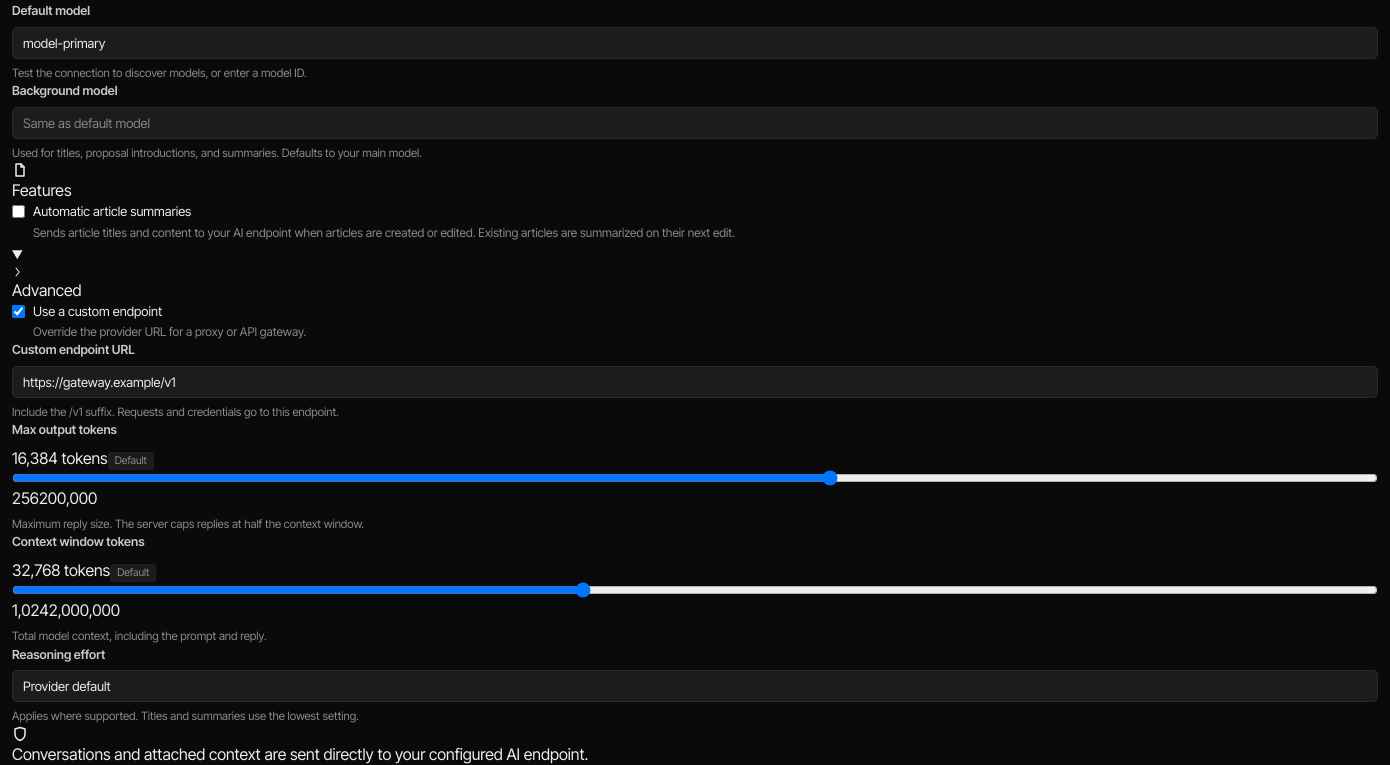
Test case: AI settings saved key on a new endpoint › does not block a trailing-slash change to the same endpoint
(page scrolled)
Replace the text in the field labelled "Custom endpoint URL" with "https://gateway.example/v1/". click: point(695, 382)
box: [12,366,1378,398]
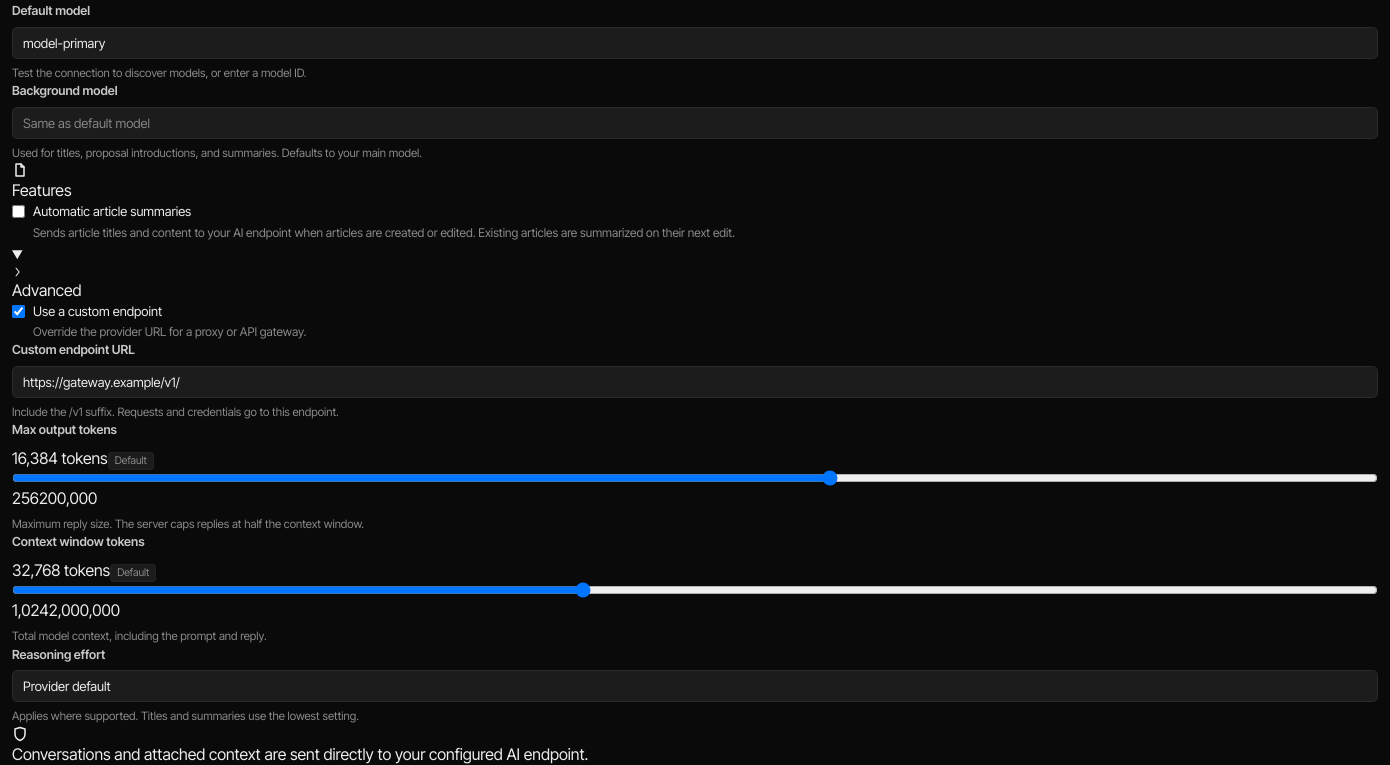
Click the checkbox labelled "Automatic article summaries". click: point(18, 212)
box: [12,205,25,218]
(page scrolled)
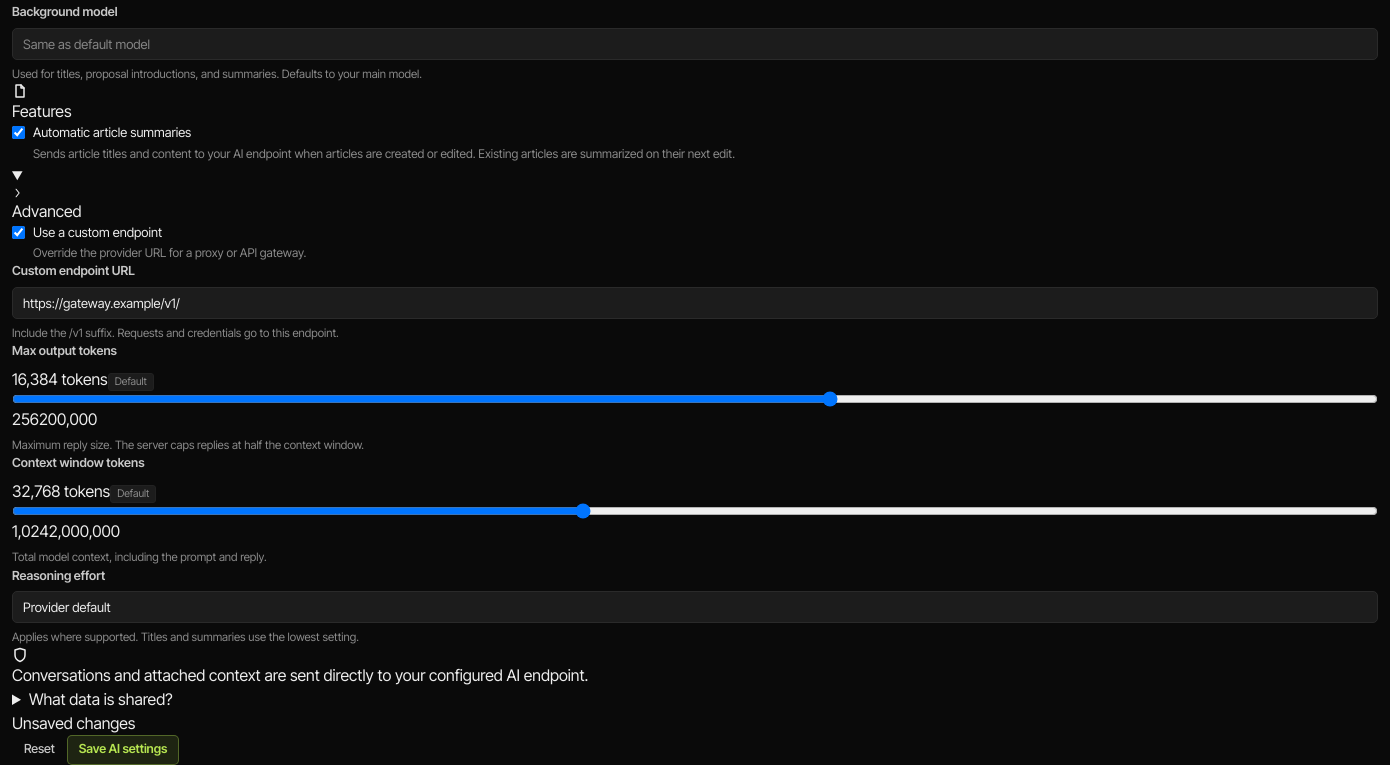
expect the button "Save AI settings" is enabled: met, box [67,734,179,764]
